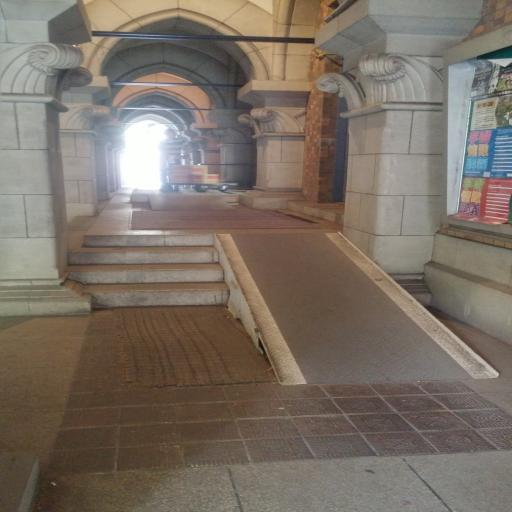ramp: (214, 234, 502, 385)
stairs: (63, 235, 230, 308)
